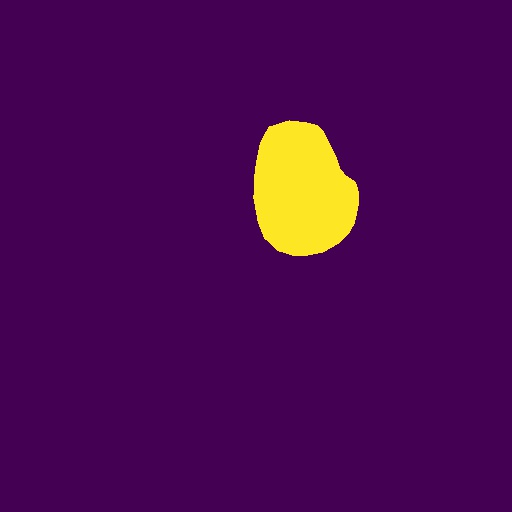Gliomia_tumour: (253, 120, 359, 256)
